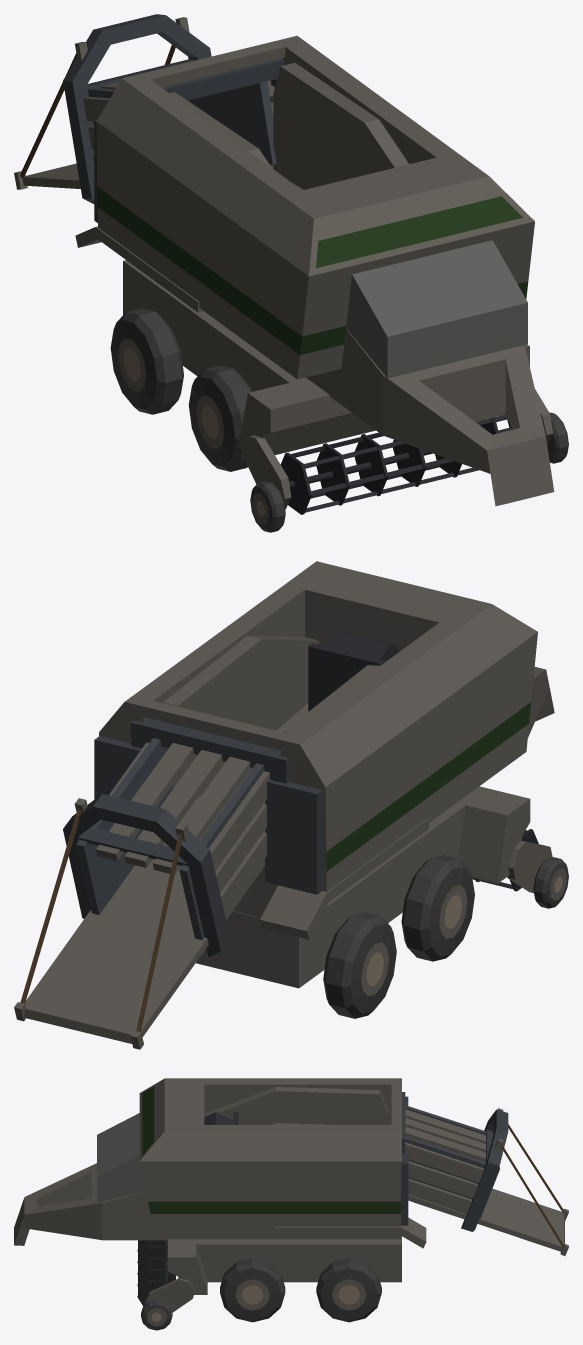
The model's file is HayBaler_1.fbx.
The picture shows the model from 3 angles, top to bottom: view 1: azimuth 30°, elevation 25°; view 2: azimuth 150°, elevation 25°; view 3: azimuth 270°, elevation 25°; orthographic projection. The views are drawn at different scales.
Visible parts, largest first — view 1: HayBaler_1, HayBalerTool_1, HayBalerFrontWheels_1, HayBalerBackWheels_1; view 2: HayBaler_1, HayBalerFrontWheels_1, HayBalerBackWheels_1; view 3: HayBaler_1, HayBalerFrontWheels_1, HayBalerBackWheels_1, HayBalerTool_1.
Boxes of the visible parts, <box> form: HayBaler_1: <box>14,14,554,509</box>; HayBalerTool_1: <box>280,415,512,514</box>; HayBalerFrontWheels_1: <box>188,365,568,532</box>; HayBalerBackWheels_1: <box>110,308,183,414</box>; HayBaler_1: <box>14,561,554,1049</box>; HayBalerFrontWheels_1: <box>401,855,568,961</box>; HayBalerBackWheels_1: <box>323,912,396,1018</box>; HayBaler_1: <box>14,1078,568,1312</box>; HayBalerFrontWheels_1: <box>141,1258,285,1330</box>; HayBalerBackWheels_1: <box>316,1258,381,1322</box>; HayBalerTool_1: <box>137,1240,175,1306</box>.
Bounding box in the file's own units: 222 × 211 × 581.
